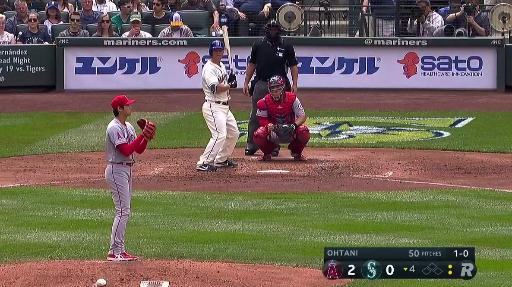pitcher: (104, 94, 156, 261)
